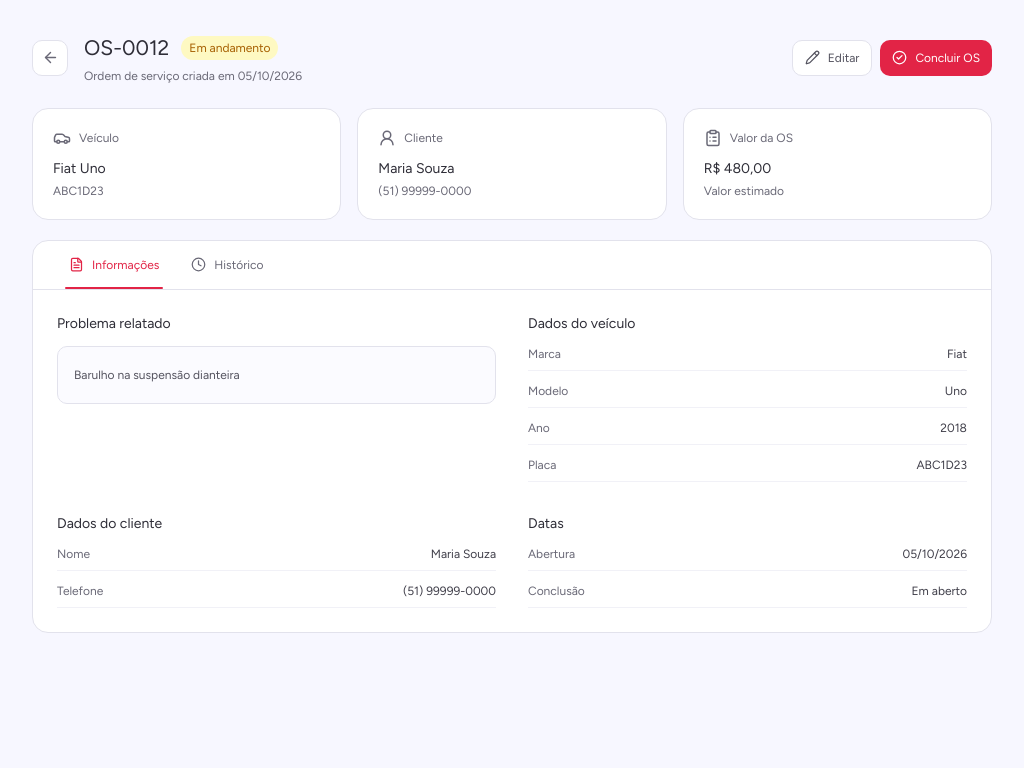
Test case: detalhe da ordem de serviço › mostra só dados da ordem: nada de serviço ou histórico inventado
Click the tab "Histórico": (227,264) [175,240,279,288]
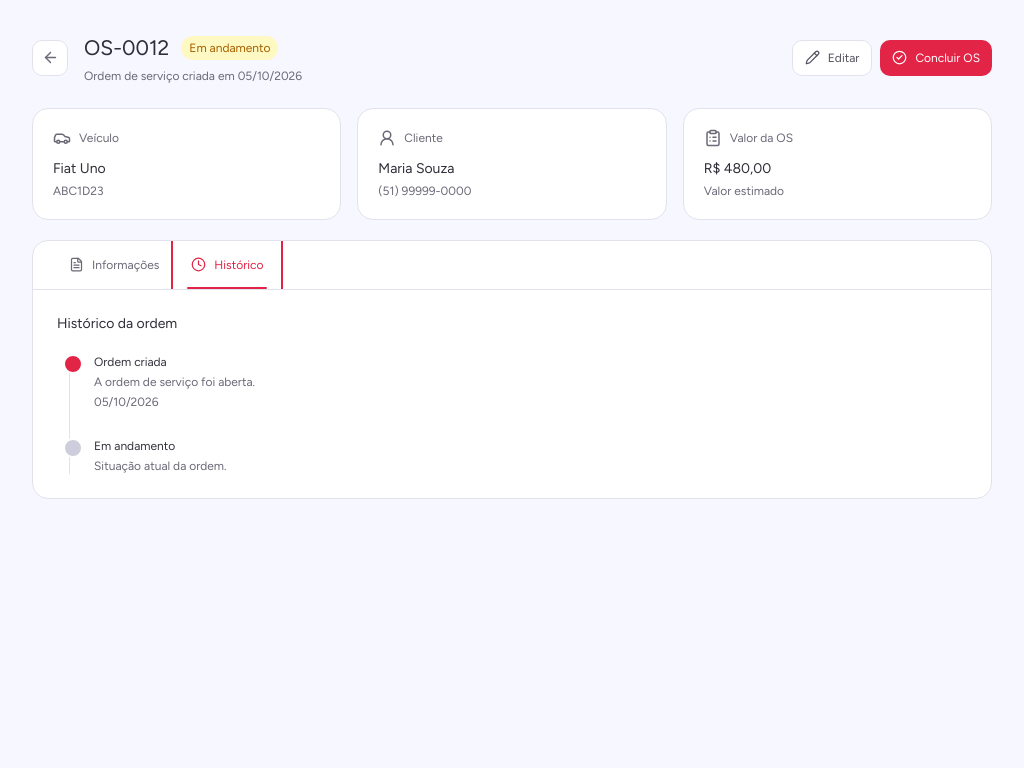
Expected: the text "05/10/2026" is shown, [94,394,158,408]
Expected: the text "Situação atual da ordem." is shown, [94,458,226,472]
